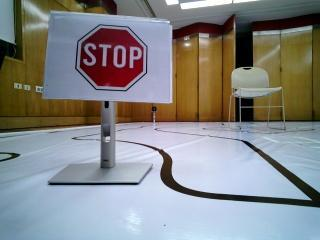stop: (50, 21, 164, 99)
